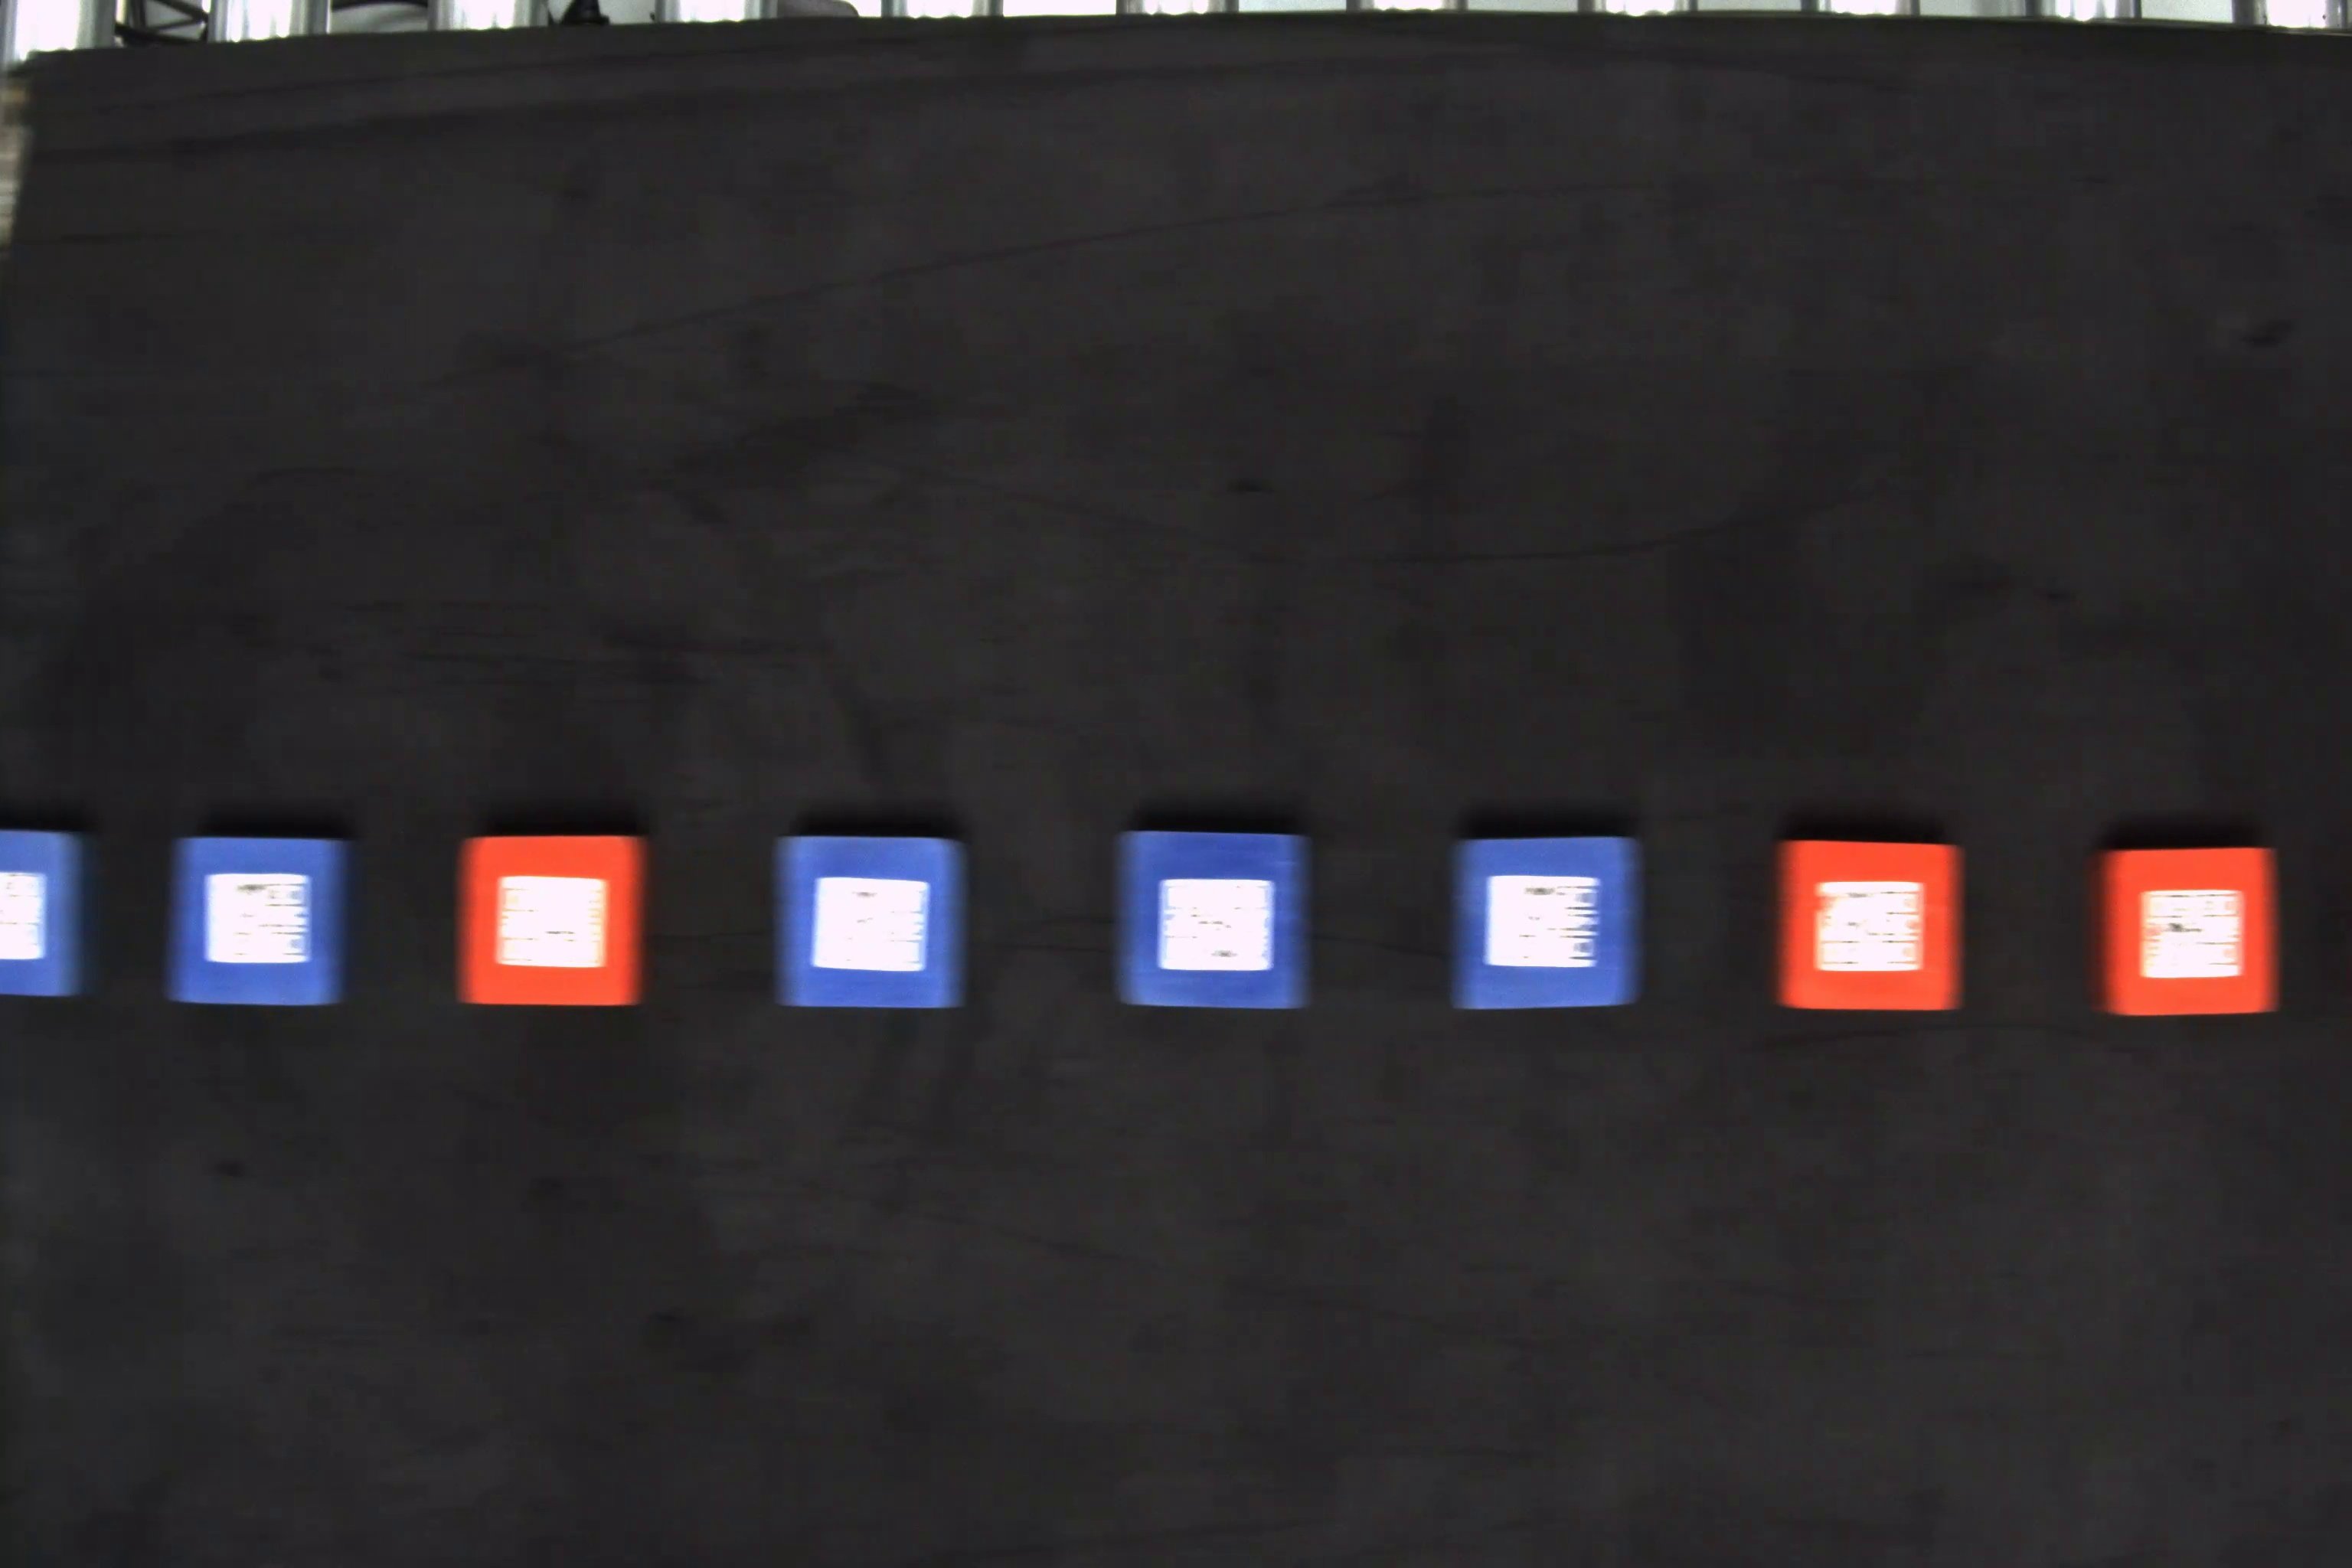wood: (761, 836, 969, 1011), (1113, 833, 1309, 1015), (460, 831, 649, 1015), (164, 828, 345, 1013), (1778, 840, 1965, 1018), (1454, 840, 1647, 1013), (2095, 847, 2282, 1017), (3, 828, 94, 997)
